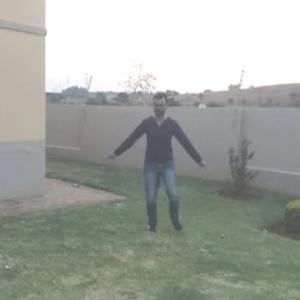land: (110, 83, 217, 242)
